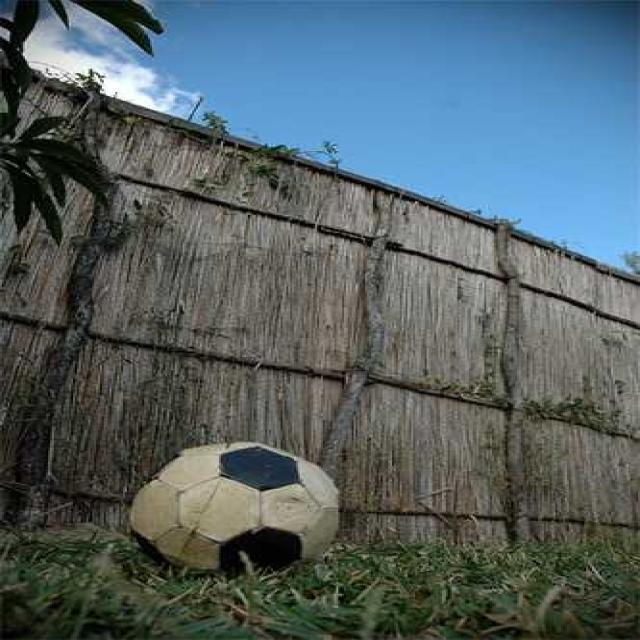ball: (130, 442, 338, 576)
